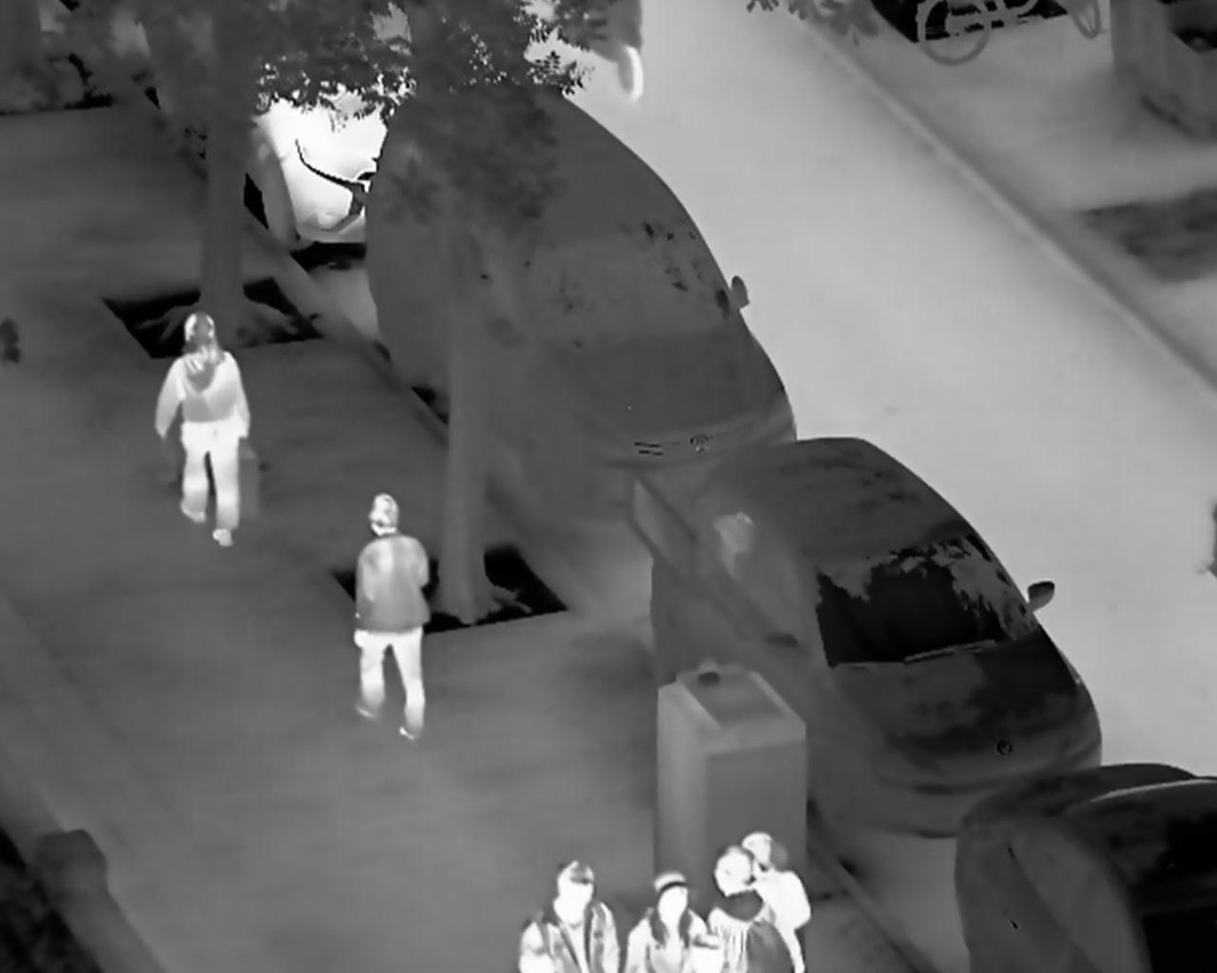person: (148, 308, 252, 550), (350, 491, 433, 747), (515, 858, 619, 973), (703, 843, 795, 973), (742, 828, 814, 973), (625, 867, 709, 973)
